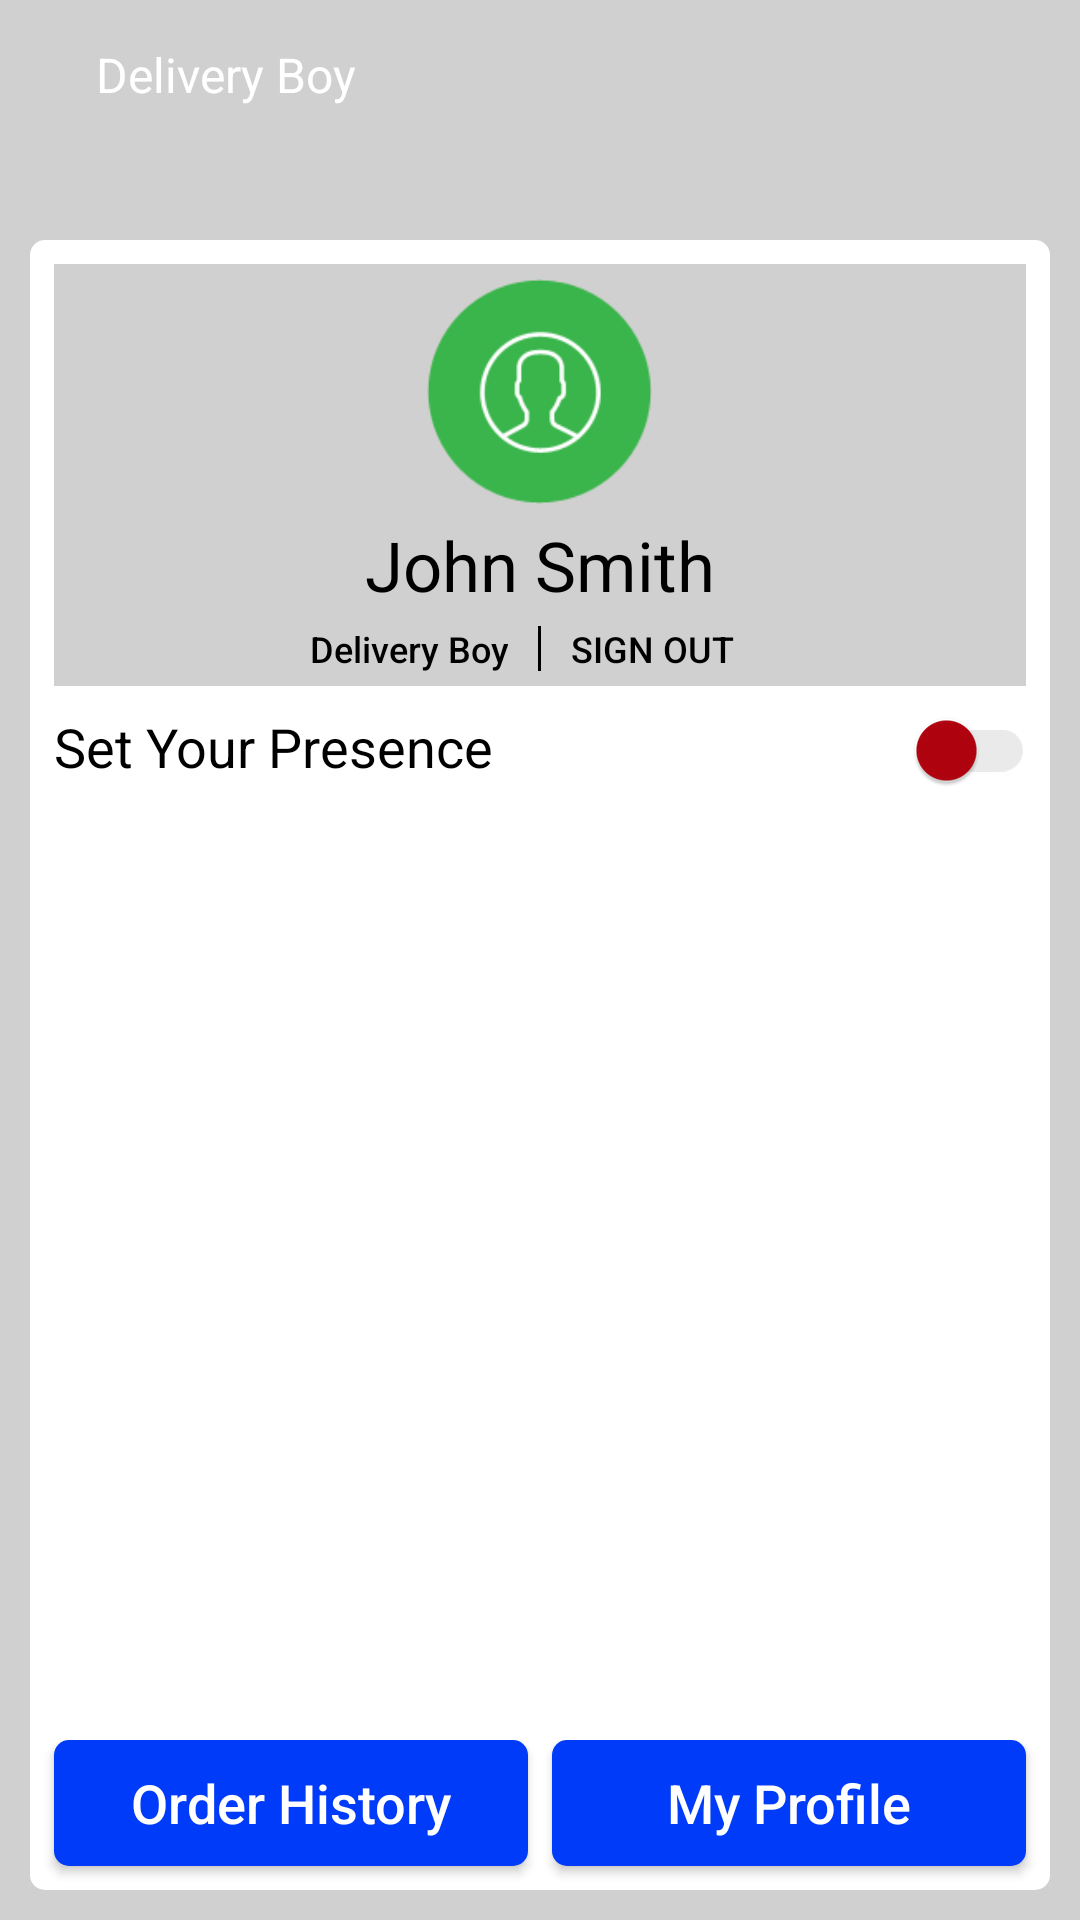

Named icons in this screenshot (1080*1920) and their bounding boxes, (x1, y1, x2, y2):
sidebar profile: (427, 279, 652, 504)
